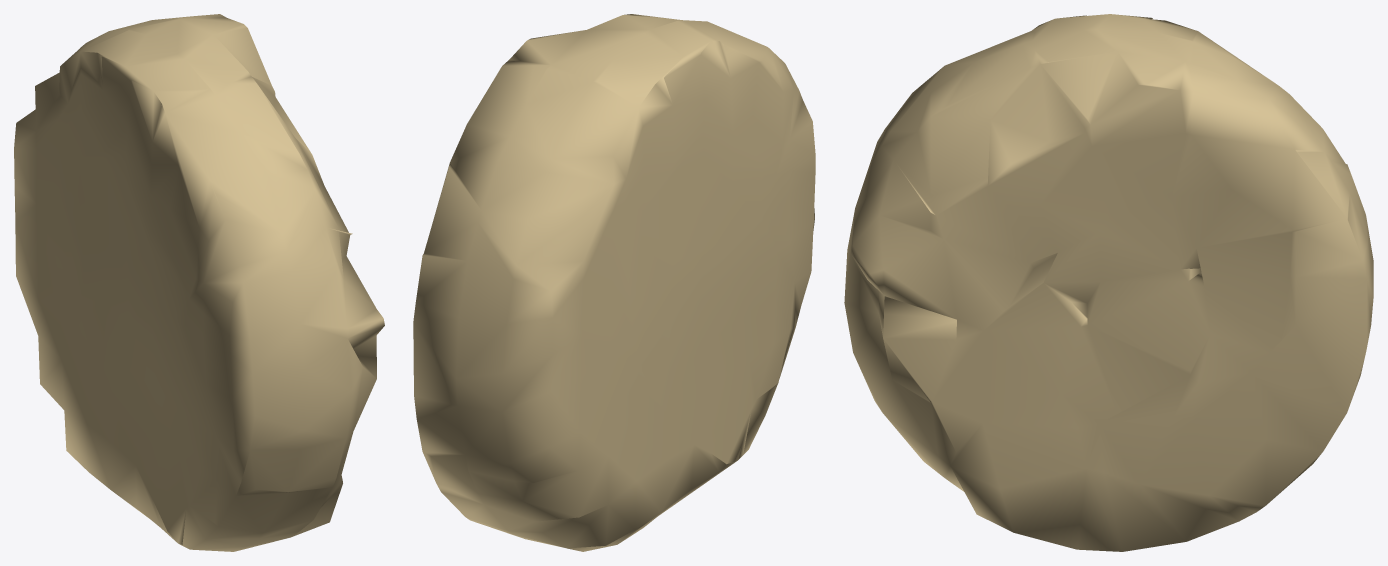
Rendered from nuruk_broken.glb.
The picture shows the model from 3 angles, left to right: view 1: azimuth 30°, elevation 25°; view 2: azimuth 150°, elevation 25°; view 3: azimuth 270°, elevation 25°; orthographic projection. The views are drawn at different scales.
Visible parts, largest first — view 1: nuruk_broken; view 2: nuruk_broken; view 3: nuruk_broken.
Part boxes in pixels (x1,y1,x2,y2): nuruk_broken: (14, 14, 384, 551); nuruk_broken: (413, 14, 815, 551); nuruk_broken: (844, 14, 1373, 551).
Bounding box in the file's own units: 0.1844 × 0.5356 × 0.5312.
